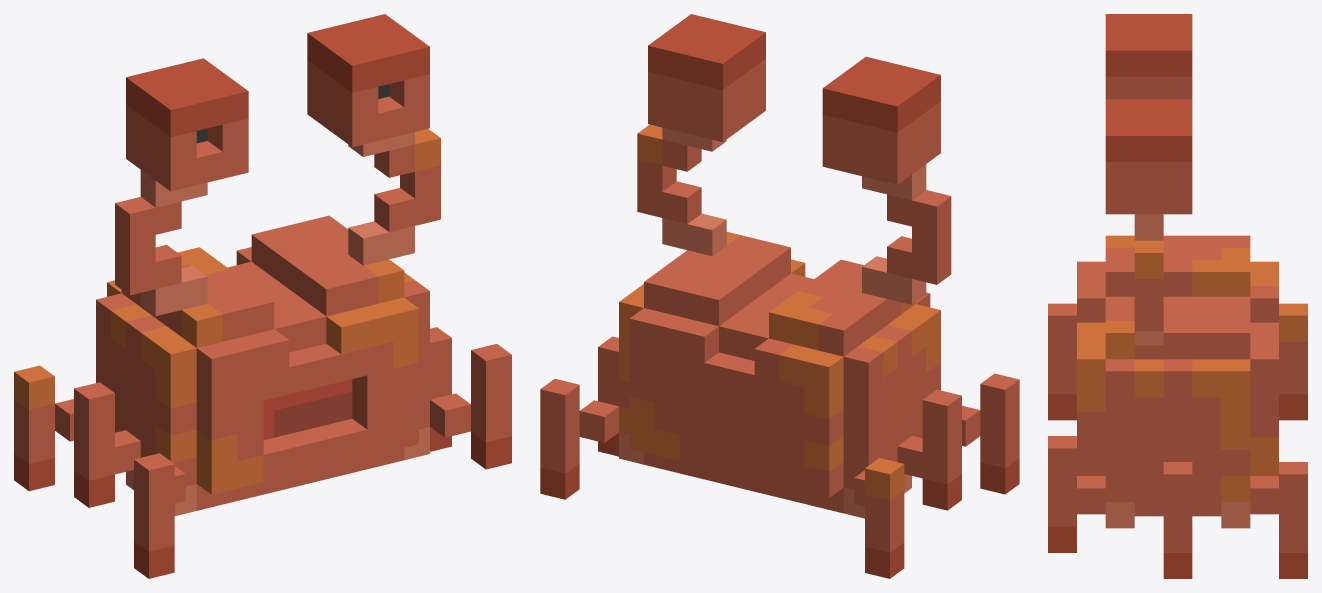
The model's file is Voxels-32.obj.
3 renders of one model, left to right at view 1: azimuth 30°, elevation 25°; view 2: azimuth 150°, elevation 25°; view 3: azimuth 270°, elevation 25°, orthographic. The views are drawn at different scales.
Parts seen in each view (by area): view 1: Voxels-32; view 2: Voxels-32; view 3: Voxels-32.
Part boxes in pixels (x1,y1,x2,y2): Voxels-32: (14,14,511,578); Voxels-32: (540,14,1019,578); Voxels-32: (1048,14,1307,578).
Size of the model in its own units: 14 by 16 by 9.
Materials: 1 (1 with a texture image).
